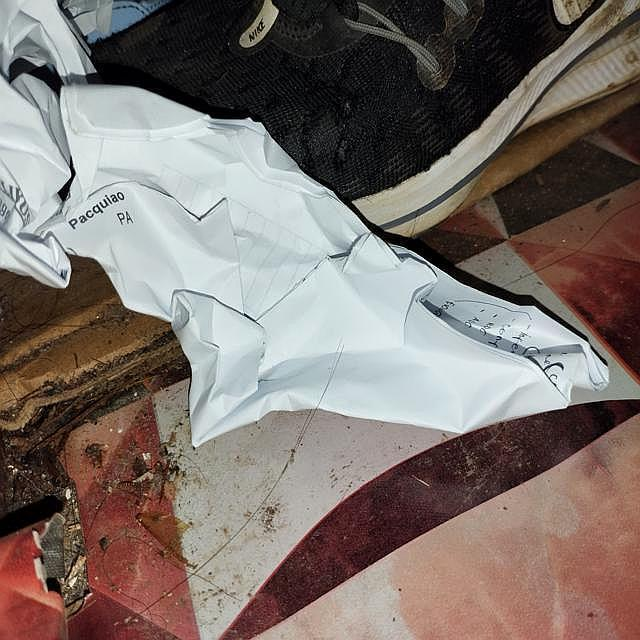Biodegradable: (1, 2, 613, 478)
